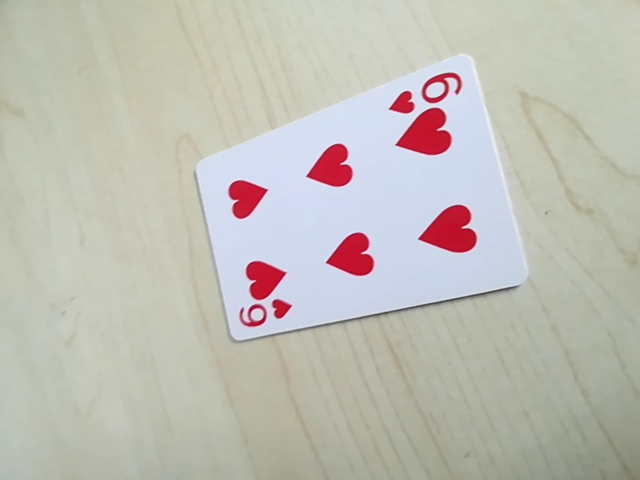hx 6: (387, 69, 465, 114), (234, 297, 294, 335)
